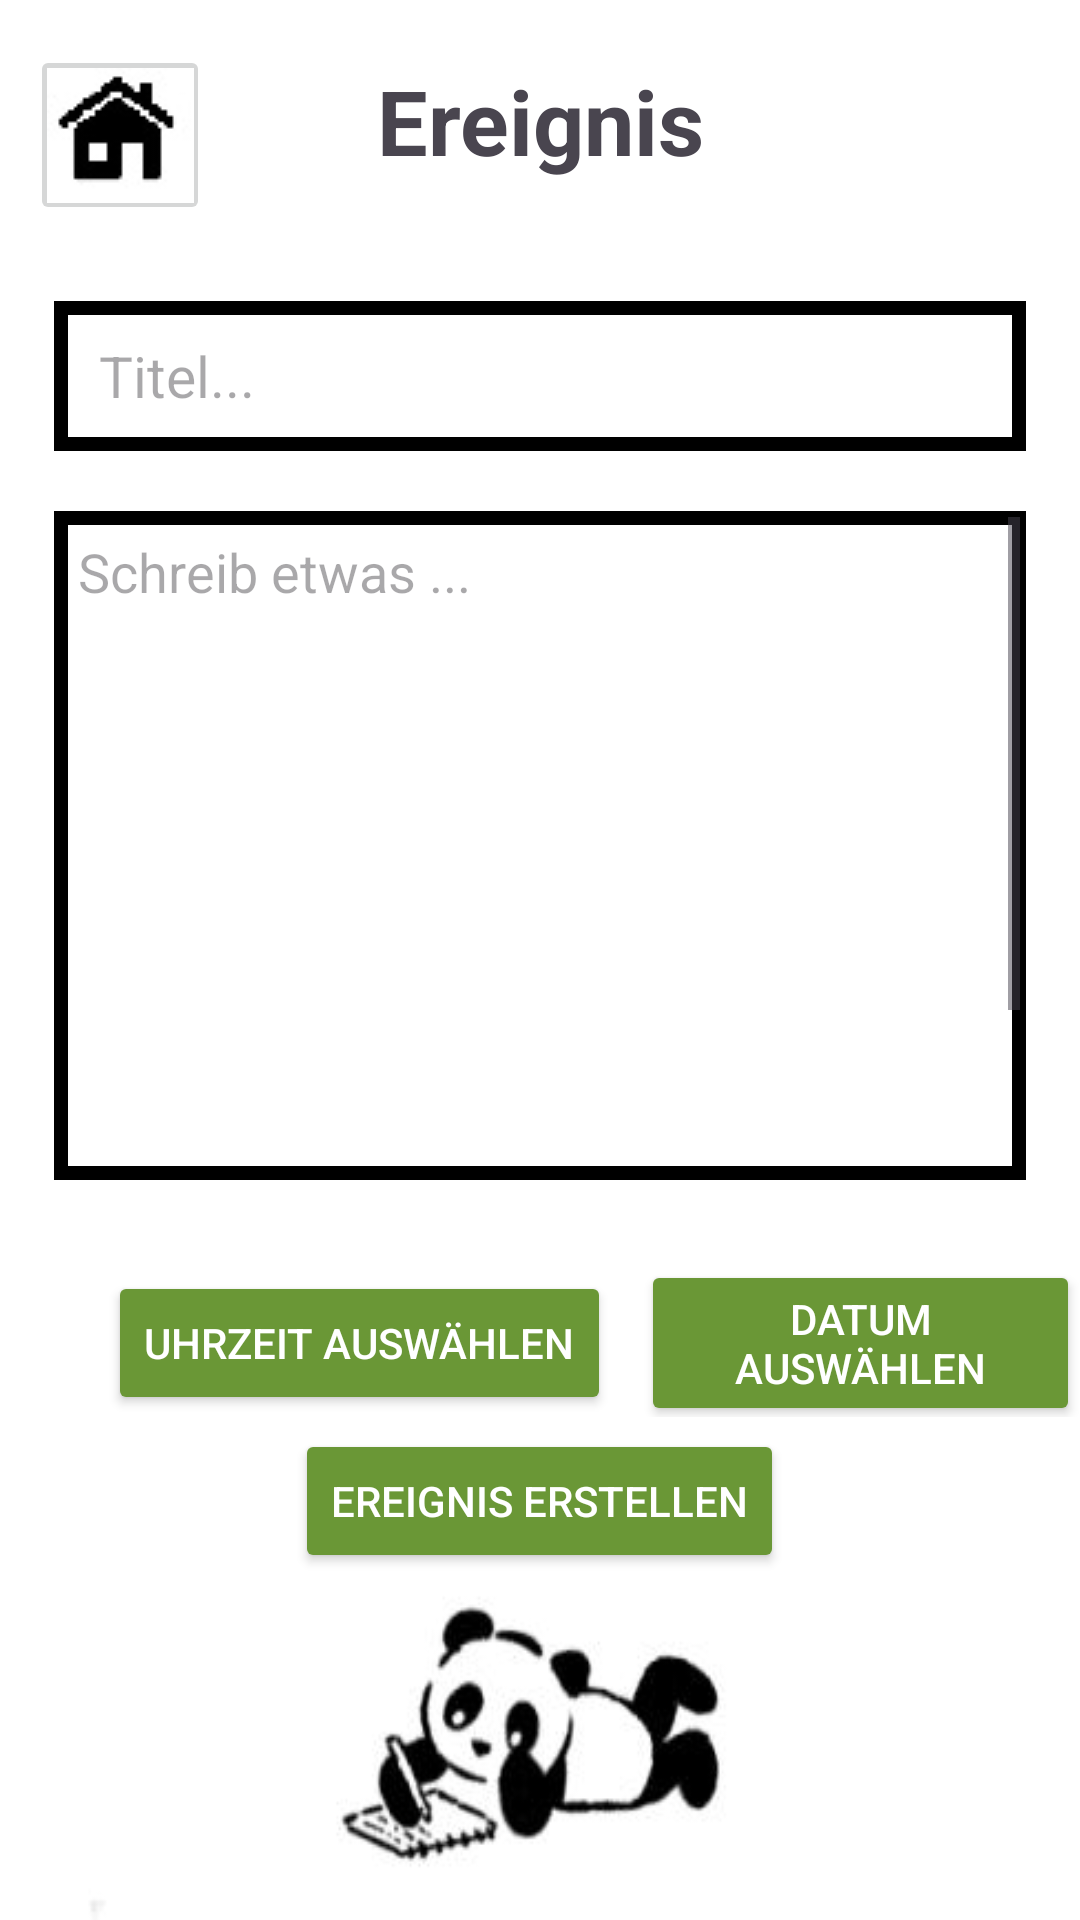

Screen size 1080×1920. Icon name, then its center in pixels as point (x, y):
Zurück zum Home Menue: point (120, 135)
